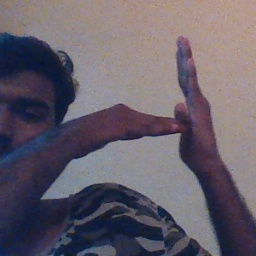Z: (119, 33, 226, 174)
